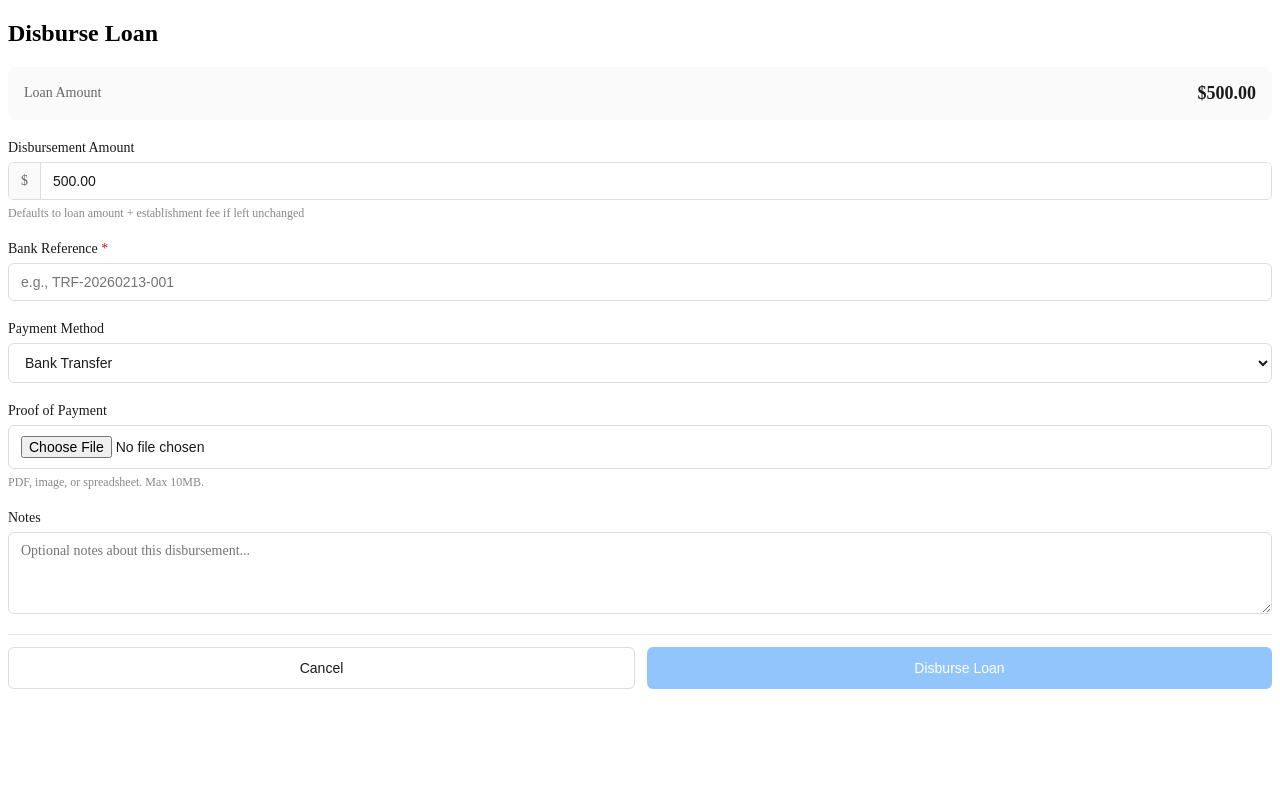
DisburseLoanDrawer: a cancelled loan › shows the cancelled rejection as an error, never as success
The image size is (1280, 800).
Type "TRF-1" into the field labelled "Bank Reference *" at [640, 282], box x1=8 y1=263 x2=1272 y2=301
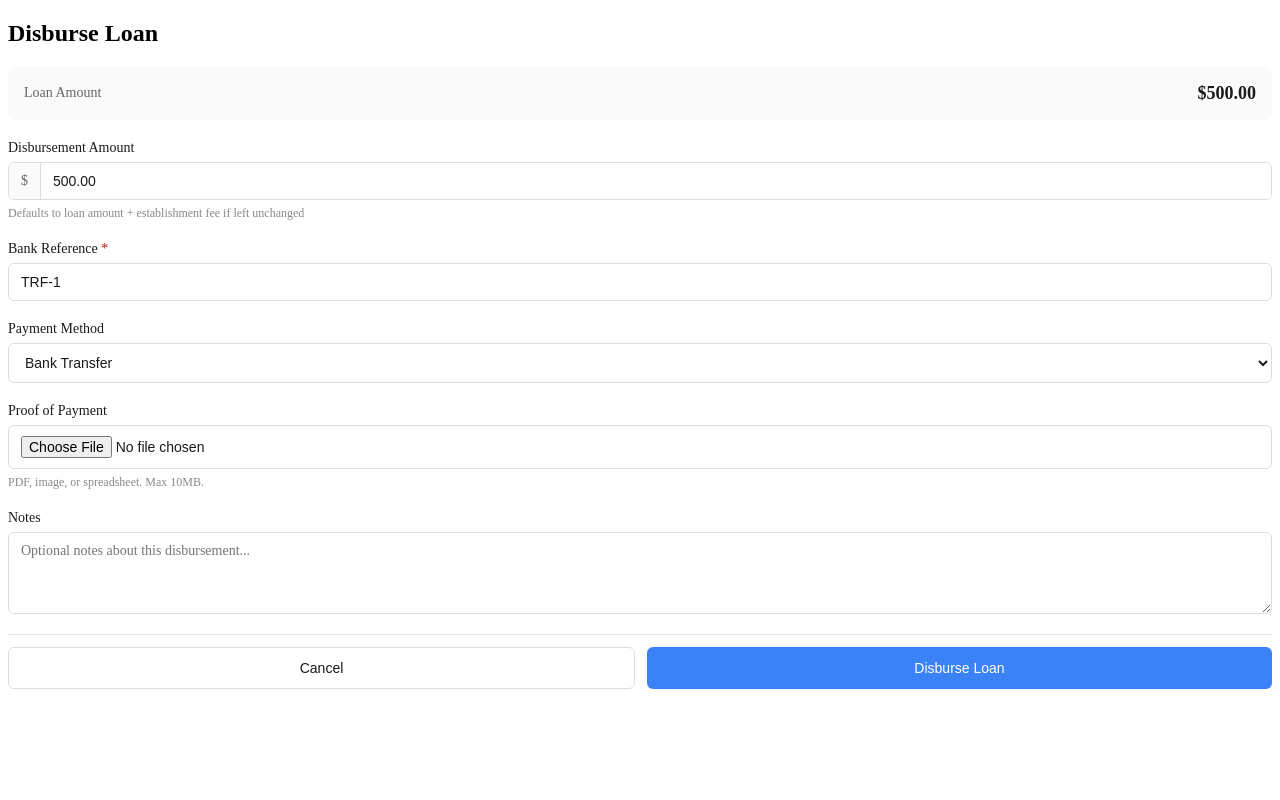
Click the button "Disburse Loan" at [960, 668], box x1=647 y1=647 x2=1272 y2=689
Wait 2000 ms
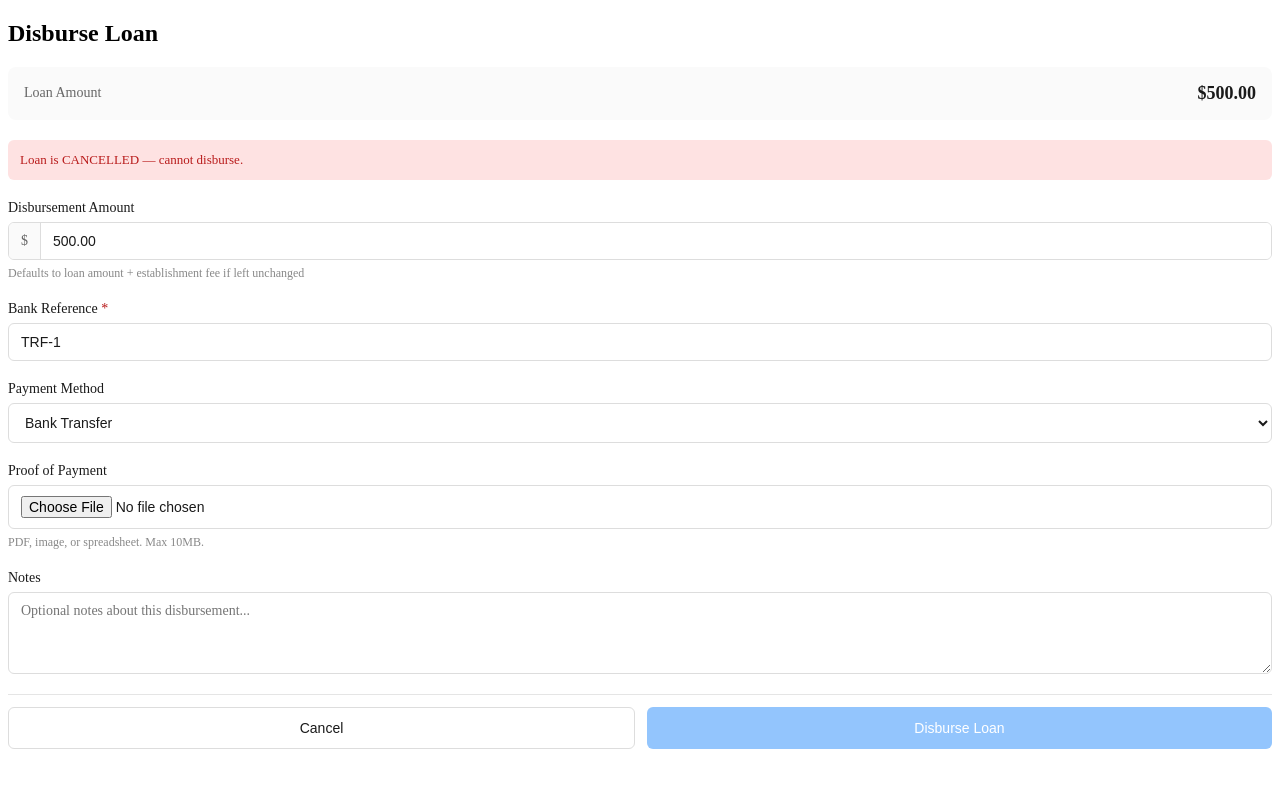
Result: the text "Loan is CANCELLED — cannot disburse." is shown at x1=8 y1=140 x2=1272 y2=180
